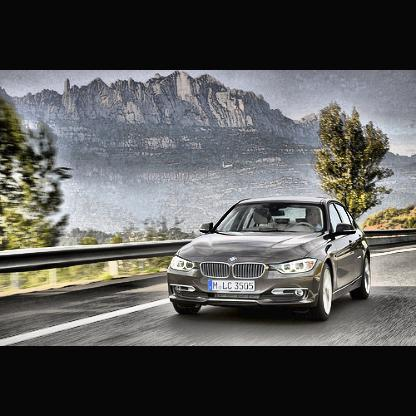BMW 3 Series Sedan 2012: (168, 198, 372, 322)
